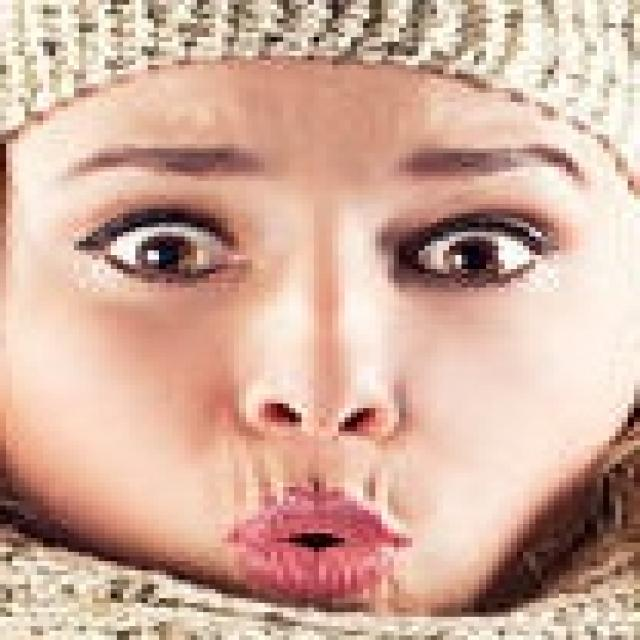Anxiety: (6, 61, 640, 614)
